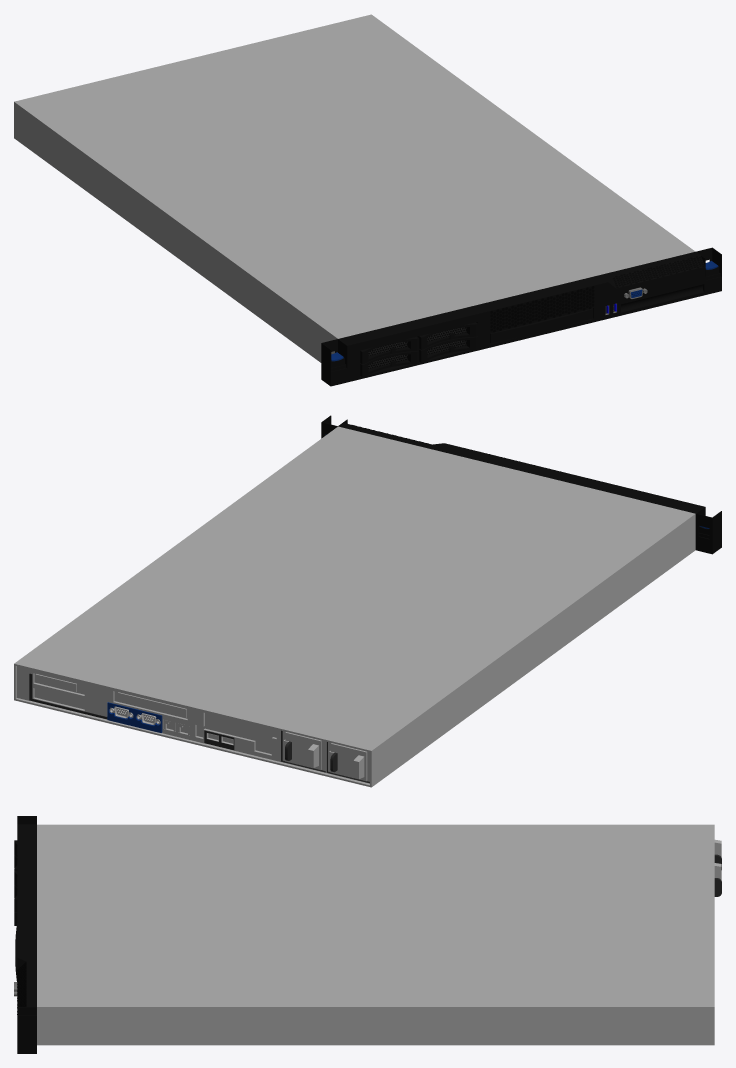
The model's file is IBM_X3550 M3.fbx.
3 views of the same model, one above another, from view 1: azimuth 30°, elevation 25°; view 2: azimuth 150°, elevation 25°; view 3: azimuth 270°, elevation 25° (orthographic). The views are drawn at different scales.
Parts seen in each view (by area): view 1: IBM_X3550 M3; view 2: IBM_X3550 M3; view 3: IBM_X3550 M3.
Part boxes in pixels (box(x1,y1,x2,y2)): IBM_X3550 M3: box(14, 14, 721, 386); IBM_X3550 M3: box(14, 415, 721, 787); IBM_X3550 M3: box(14, 816, 721, 1053).
Size of the model in its own units: 481 by 43.18 by 722.
12 materials, 1 textured.
